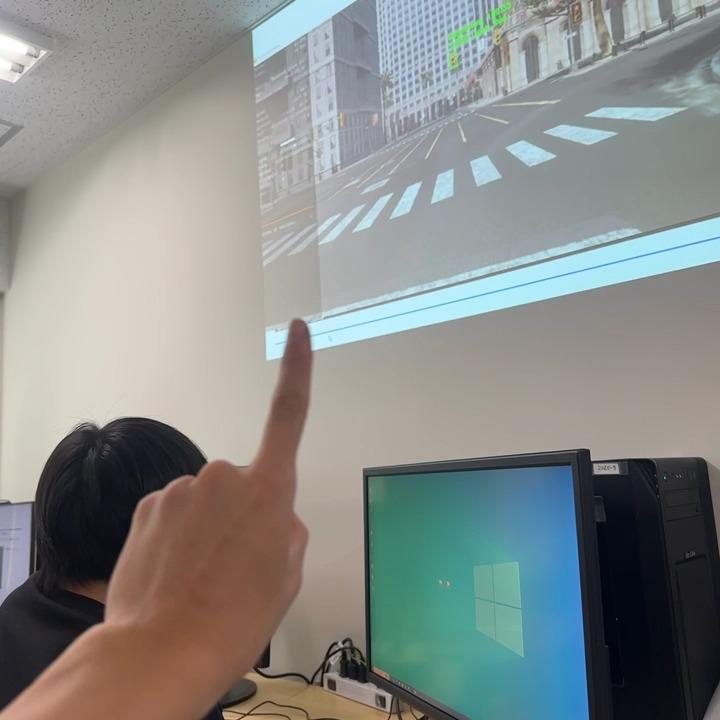without_gloves: (0, 244, 495, 564)
